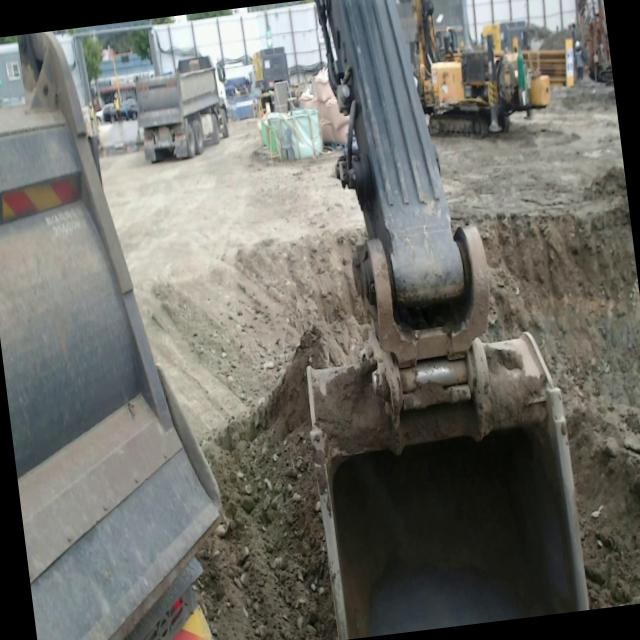red-sand: (486, 170, 640, 609), (195, 308, 363, 640)
white-sand: (101, 121, 363, 439)
